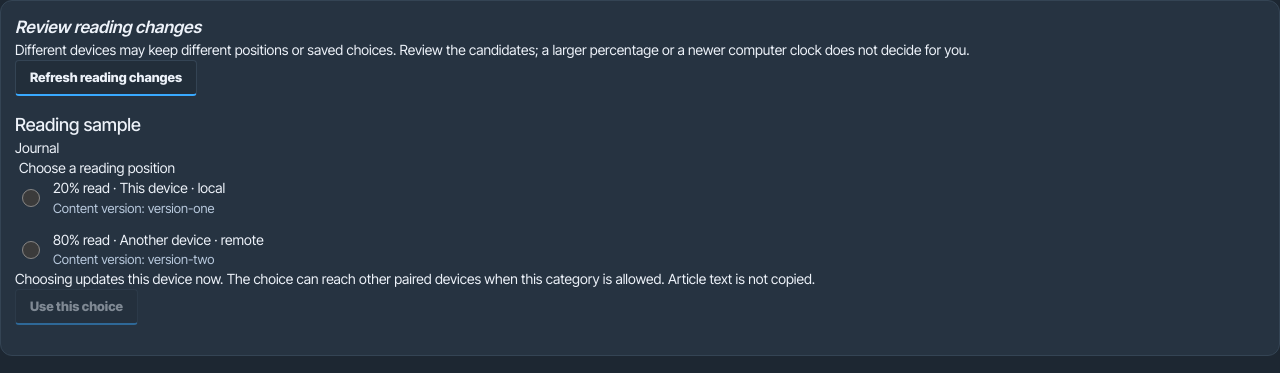
shows both versions with no automatic choice and saves the reviewed earlier position
Expected: the heading "Reading sample" is shown, left=15, top=114, right=141, bottom=135
Expected: the button "Use this choice" is disabled, left=15, top=289, right=138, bottom=325
Click the radio button labelled "20% read · This device · local Content version: version-one".
click(31, 198)  # box left=22, top=182, right=40, bottom=216
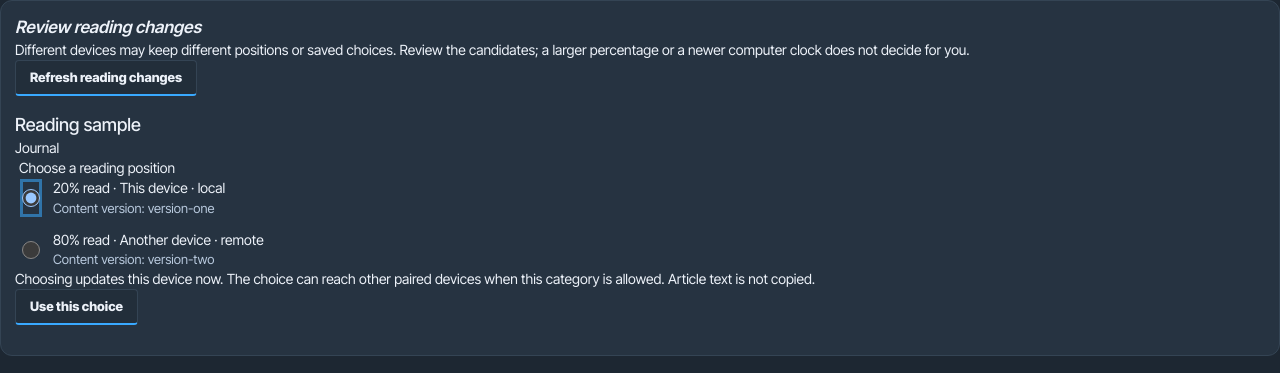
Click the button "Use this choice".
click(76, 307)  # box left=15, top=289, right=138, bottom=325
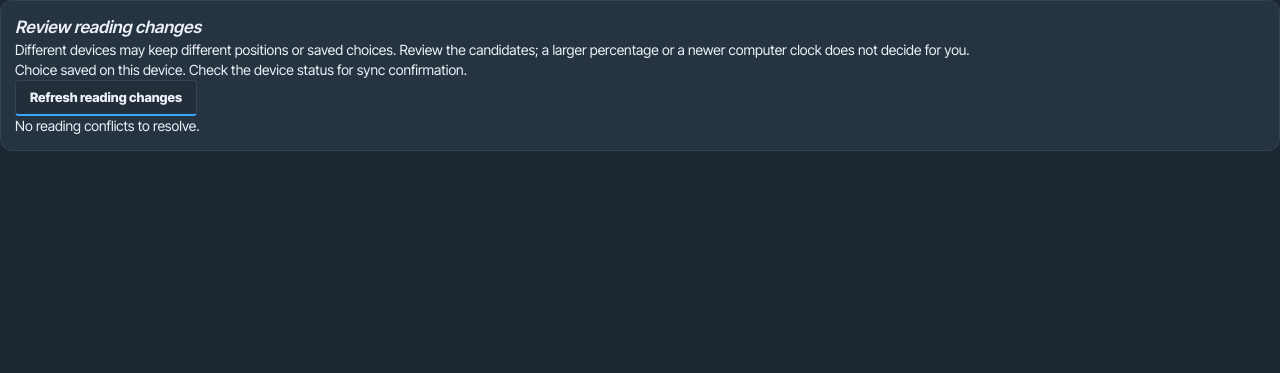
Expected: the text "No reading conflicts to resolve." is shown, left=15, top=117, right=200, bottom=134
Expected: the message shows "Choice saved on this device", left=15, top=61, right=467, bottom=78
